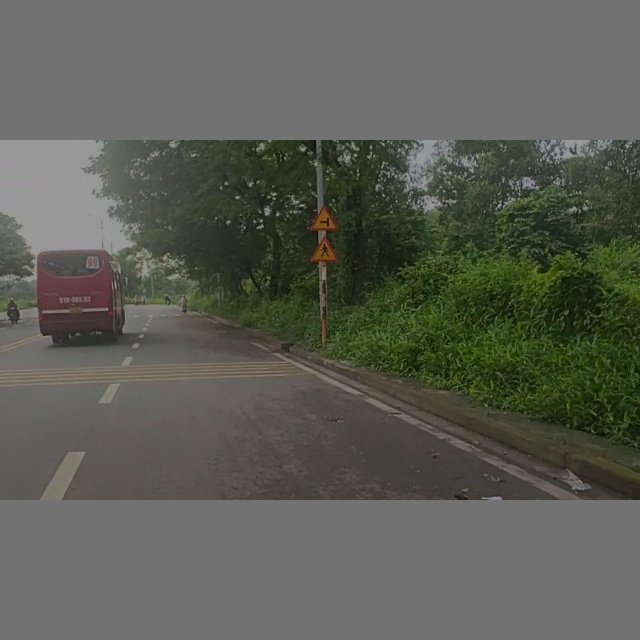W.205c: (309, 204, 345, 231)
W.224: (311, 235, 342, 265)
